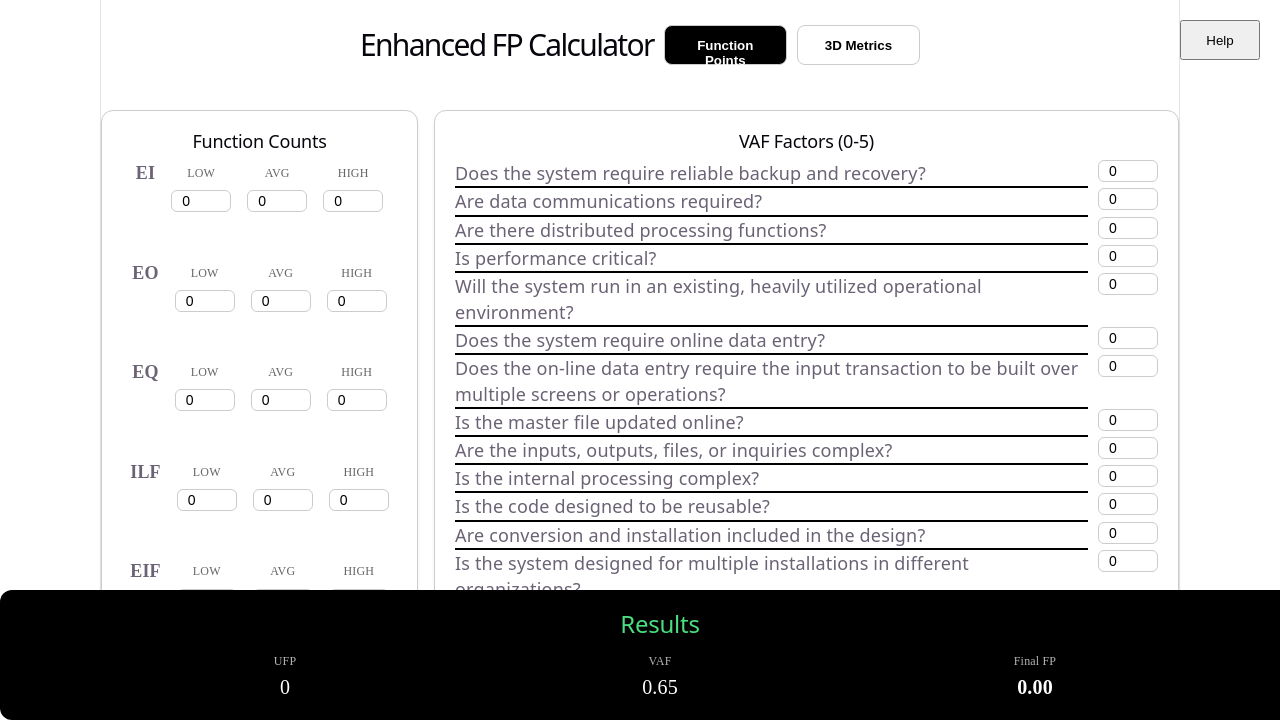
it: switches to 3D Metrics mode and shows correct inputs
This screenshot has width=1280, height=720.
Click the 3D Metrics button
Step 1. Click the button "3D Metrics" → (858, 45), box [797,25,920,65]
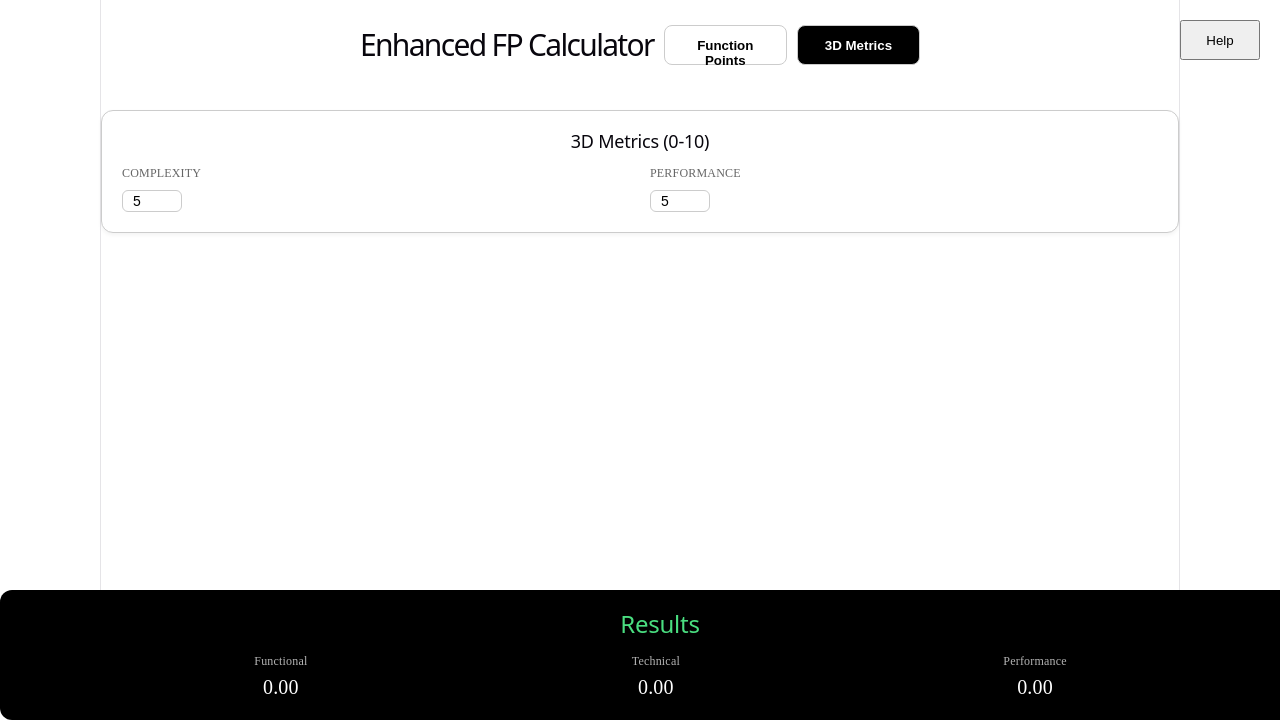
Expected: the heading "3D Metrics (0-10)" is shown, [571,129,709,153]
Expected: the heading "Function Counts" is gone
